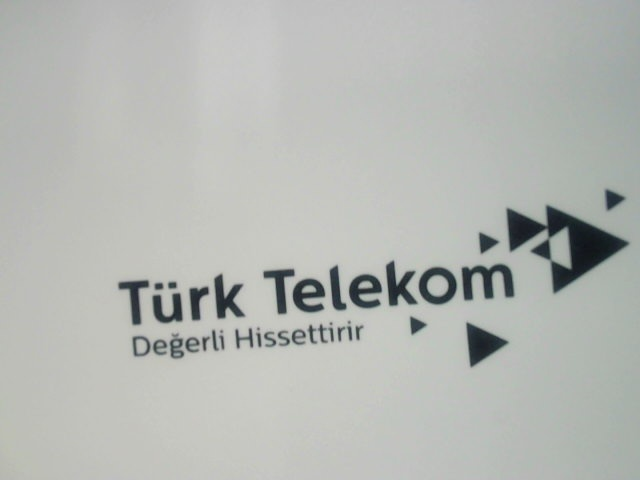AQ_TURKTelekom: (100, 187, 634, 367)
